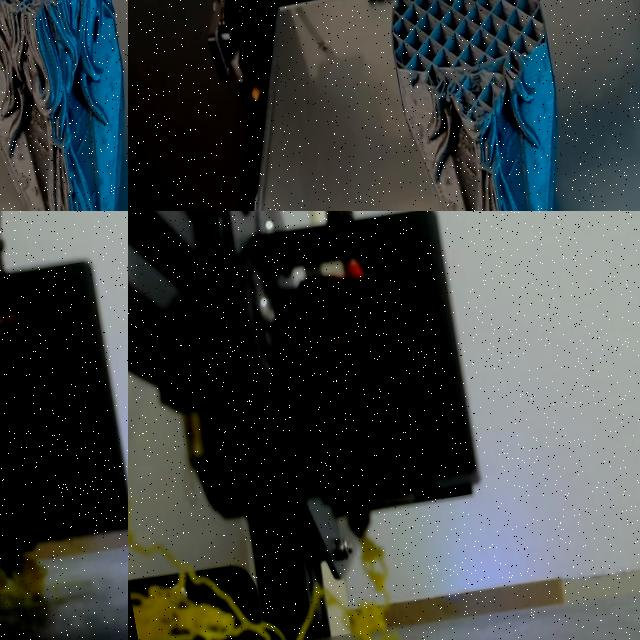spaghetti: (128, 515, 288, 640), (292, 534, 397, 640), (0, 554, 45, 607)
